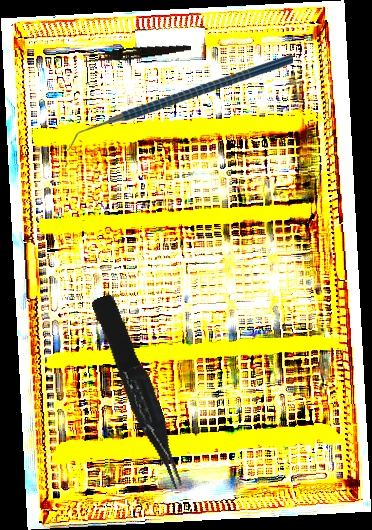Chopper: (67, 54, 293, 152)
Dressing Forceps: (82, 39, 192, 67)
Tissue Forceps: (90, 290, 188, 496)
